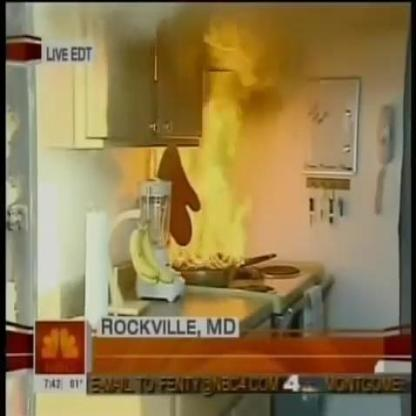fire: (171, 90, 248, 270)
